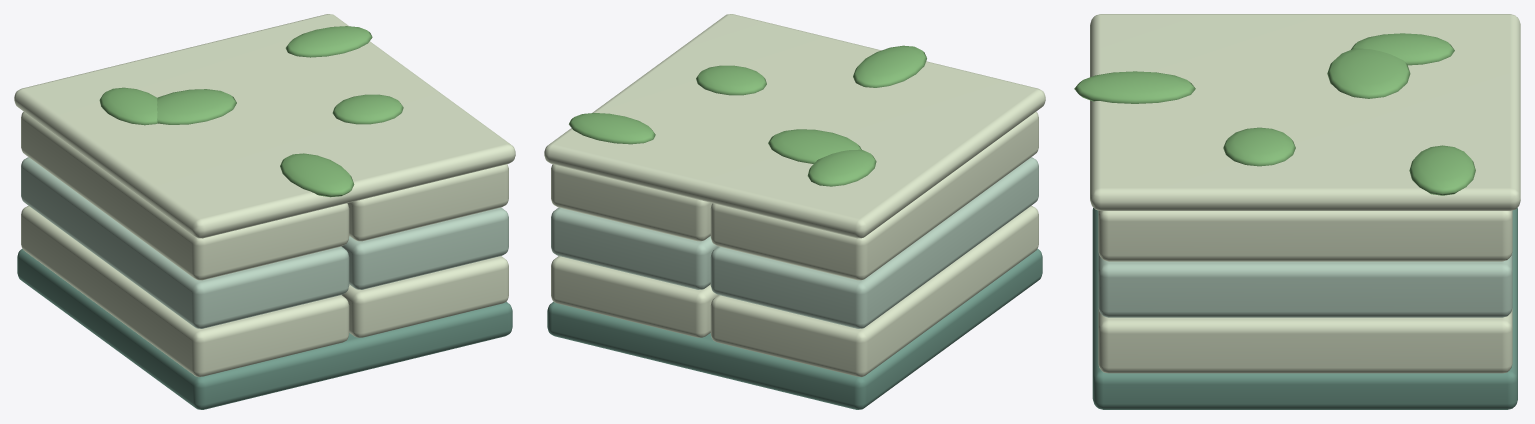
File: wall_2.glb
3 renders of one model, left to right at view 1: azimuth 30°, elevation 25°; view 2: azimuth 150°, elevation 25°; view 3: azimuth 270°, elevation 25°, orthographic. The views are drawn at different scales.
Visible parts, largest first — view 1: Coping.002, Foundation.002, CarvedBlock.014, CarvedBlock.012, CarvedBlock.016, CarvedBlock.015, CarvedBlock.013, CarvedBlock.017, Moss.014, Moss.013, Moss.011, Moss.012 (+1 smaller); view 2: Coping.002, Foundation.002, CarvedBlock.014, CarvedBlock.012, CarvedBlock.016, CarvedBlock.015, CarvedBlock.013, CarvedBlock.017, Moss.013, Moss.014, Moss.011, Moss.012 (+1 smaller); view 3: Coping.002, CarvedBlock.015, CarvedBlock.013, CarvedBlock.017, Foundation.002, Moss.014, Moss.013, Moss.011, Moss.010, Moss.012.
Boxes of the visible parts, x1,y1,x2,y2 form: Coping.002: (14, 14, 515, 238); Foundation.002: (17, 249, 512, 409); CarvedBlock.014: (21, 157, 349, 328); CarvedBlock.012: (21, 206, 349, 377); CarvedBlock.016: (21, 111, 349, 280); CarvedBlock.015: (341, 207, 508, 289); CarvedBlock.013: (342, 256, 508, 337); CarvedBlock.017: (347, 164, 508, 241); Moss.014: (157, 89, 236, 124); Moss.013: (280, 153, 354, 197); Moss.011: (285, 26, 372, 57); Moss.012: (99, 87, 157, 125); Coping.002: (544, 14, 1045, 238); Foundation.002: (547, 249, 1042, 409); CarvedBlock.014: (710, 157, 1038, 328); CarvedBlock.012: (710, 206, 1038, 377); CarvedBlock.016: (710, 111, 1038, 280); CarvedBlock.015: (551, 207, 718, 289); CarvedBlock.013: (551, 256, 717, 337); CarvedBlock.017: (551, 164, 712, 241); Moss.013: (853, 45, 926, 87); Moss.014: (768, 129, 861, 163); Moss.011: (569, 113, 655, 144); Moss.012: (807, 149, 876, 186); Coping.002: (1090, 14, 1520, 210); CarvedBlock.015: (1098, 252, 1512, 317); CarvedBlock.013: (1098, 308, 1512, 373); CarvedBlock.017: (1098, 210, 1512, 261); Foundation.002: (1092, 208, 1517, 409); Moss.014: (1327, 48, 1410, 98); Moss.013: (1074, 71, 1195, 103); Moss.011: (1409, 145, 1475, 195); Moss.010: (1223, 127, 1295, 166); Moss.012: (1351, 33, 1454, 65).
Size of the model in its own units: 4.07 by 2.4 by 4.18.
